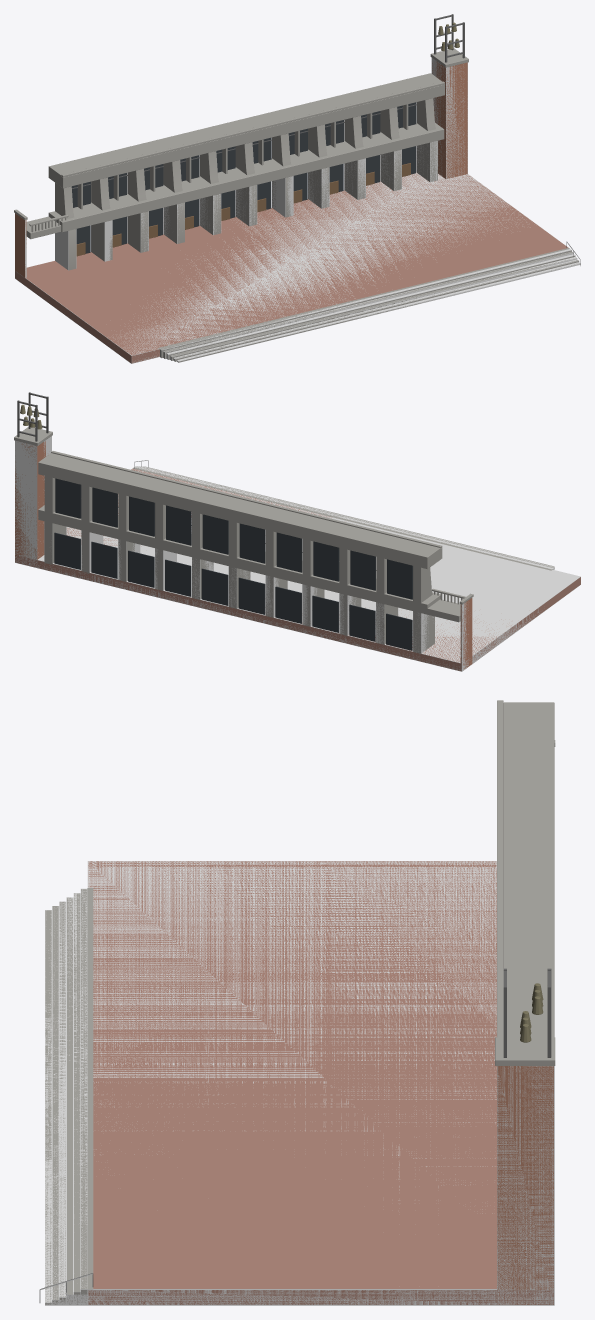
File: kane.glb
3 views of the same model, one above another, from view 1: azimuth 30°, elevation 25°; view 2: azimuth 150°, elevation 25°; view 3: azimuth 270°, elevation 25° (orthographic). The views are drawn at different scales.
Parts seen in each view (by area): view 1: kane_M_paverbrick, kane_M_concrete, COL_walk, kane_M_glass, kane_M_brick, COL_tower, COL_step0, kane_M_wood, COL_step4, COL_step3, COL_step1, COL_step5 (+7 smaller); view 2: kane_M_concrete, kane_M_glass, COL_walk, kane_M_paverbrick, COL_tower, kane_M_brick, COL_step5, kane_M_metal, COL_step2, COL_fin3, COL_fin4, COL_wing; view 3: kane_M_paverbrick, COL_walk, kane_M_concrete, kane_M_brick, COL_tower, COL_step2, COL_step5, COL_step0, COL_step1, COL_step4, COL_step3, kane_M_metal.
Part boxes in pixels (x1,y1,x2,y2): kane_M_paverbrick: (15,172,568,363); kane_M_concrete: (14,48,579,362); COL_walk: (15,172,568,363); kane_M_glass: (71,102,416,253); kane_M_brick: (15,61,467,277); COL_tower: (431,58,467,179); COL_step0: (177,262,580,362); kane_M_wood: (76,163,410,256); COL_step4: (163,253,573,358); COL_step3: (166,254,575,359); COL_step1: (173,259,579,361); COL_step5: (160,249,571,358); kane_M_concrete: (14,427,554,653); kane_M_glass: (54,478,412,650); COL_walk: (16,468,580,671); kane_M_paverbrick: (15,468,580,670); COL_tower: (15,436,51,567); kane_M_brick: (15,441,472,670); COL_step5: (134,466,553,569); kane_M_metal: (17,392,376,570); COL_step2: (142,466,553,567); COL_fin3: (302,584,324,626); COL_fin4: (265,575,279,617); COL_wing: (460,602,468,671); kane_M_paverbrick: (88,861,553,1304); COL_walk: (87,861,554,1305); kane_M_concrete: (45,700,555,1304); kane_M_brick: (497,1066,553,1304); COL_tower: (497,1066,554,1305); COL_step2: (59,901,87,1304); COL_step5: (80,888,87,1292); COL_step0: (45,910,87,1305); COL_step1: (52,906,87,1305); COL_step4: (73,893,87,1294); COL_step3: (66,897,87,1305); kane_M_metal: (39,968,551,1302).
Bounding box in the file's own units: 59.9 × 20.6 × 30.39.
